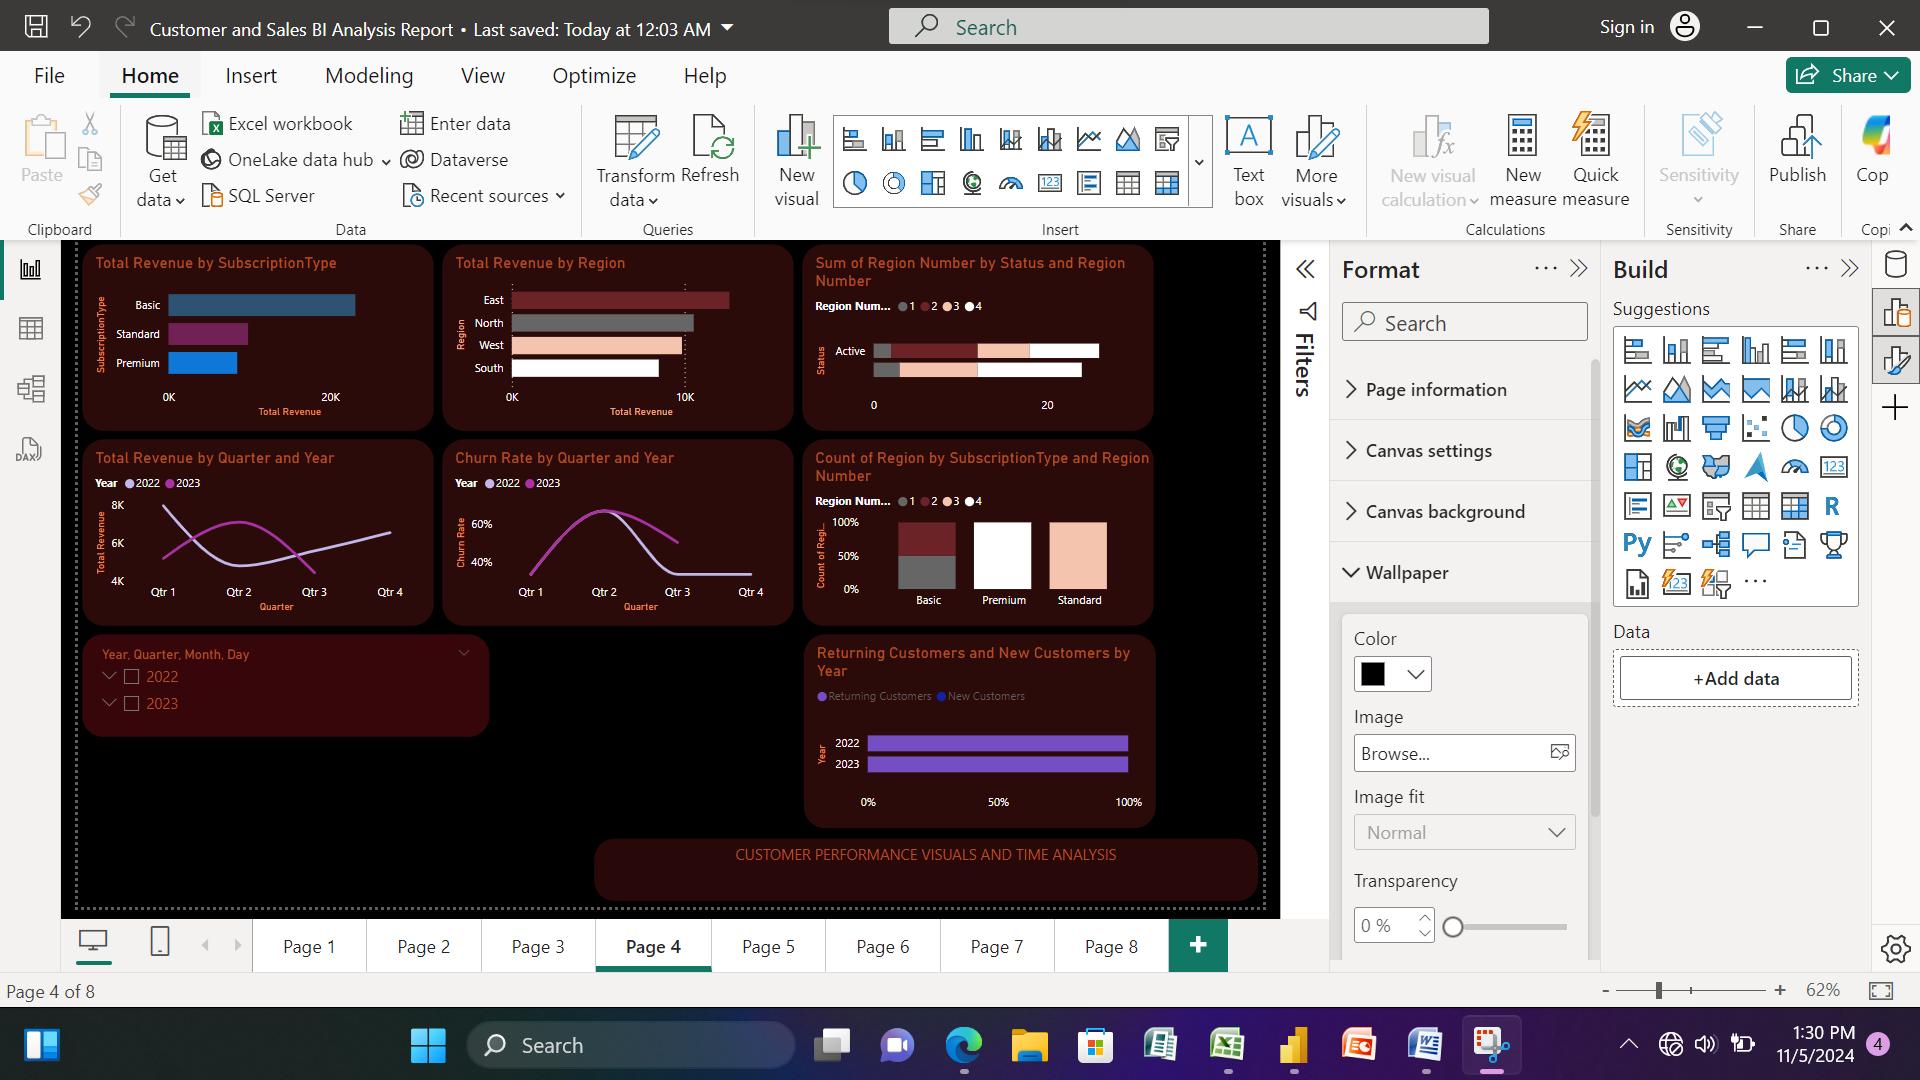

The dashboard page shown, as its layout file describes it:
{"tool":"powerbi","page":{"name":"Page 4","canvas":[1280,720],"ordinal":3},"visuals":[{"type":"barChart","fields":{"Y":["CustomerData.Total Revenue"],"Category":["CustomerData.SubscriptionType"]},"box":[0,0,388.9,210.6],"z":0},{"type":"barChart","fields":{"Category":["CustomerData.Region"],"Y":["CustomerData.Total Revenue"]},"box":[388.9,0,388.9,210.6],"z":1000},{"type":"barChart","fields":{"Series":["CustomerData.Region Number"],"Category":["CustomerData.Status"],"Y":["Sum(CustomerData.Region Number)"]},"box":[777.7,0,388.9,210.6],"z":2000},{"type":"lineChart","fields":{"Y":["CustomerData.Total Revenue"],"Category":["CustomerData.Subsciption start date.Variation.Date Hierarchy.Quarter"],"Series":["CustomerData.Subsciption start date.Variation.Date Hierarchy.Year"]},"box":[0,210.6,388.9,210.6],"z":3000},{"type":"lineChart","fields":{"Category":["CustomerData.Subsciption start date.Variation.Date Hierarchy.Quarter"],"Series":["CustomerData.Subsciption start date.Variation.Date Hierarchy.Year"],"Y":["CustomerData.Churn Rate"]},"box":[388.9,210.6,388.9,210.6],"z":4000},{"type":"hundredPercentStackedColumnChart","fields":{"Category":["CustomerData.SubscriptionType"],"Y":["CountNonNull(CustomerData.Region)"],"Series":["CustomerData.Region Number"]},"box":[777.7,210.6,388.9,210.6],"z":5000},{"type":"textbox","box":[550.5,639.6,730.3,81],"z":6000},{"type":"slicer","fields":{"Values":["CustomerData.Subsciption start date.Variation.Date Hierarchy.Year","CustomerData.Subsciption start date.Variation.Date Hierarchy.Quarter","CustomerData.Subsciption start date.Variation.Date Hierarchy.Month","CustomerData.Subsciption start date.Variation.Date Hierarchy.Day"]},"box":[0,421,448.5,119.8],"z":7000},{"type":"hundredPercentStackedBarChart","fields":{"Y":["CustomerData.Returning Customers","CustomerData.New Customers"],"Category":["CustomerData.SubscriptionStart.Variation.Date Hierarchy.Year"]},"box":[778.3,420.9,389.2,218.4],"z":8000}]}

Visuals, with their boxes on the page's 1280x720 design canvas (x1, y1, x2, y2). These are canvas units, not pixel positions in the 1920x1080 screenshot, which may show the page scaled, cropped or inside an application window:
barChart - CustomerData.Total Revenue x CustomerData.SubscriptionType: bbox=[0, 0, 389, 211]
barChart - CustomerData.Region x CustomerData.Total Revenue: bbox=[389, 0, 778, 211]
barChart - CustomerData.Region Number x CustomerData.Status: bbox=[778, 0, 1167, 211]
lineChart - CustomerData.Total Revenue x CustomerData.Subsciption start date.Variation.Date Hierarchy.Quarter: bbox=[0, 211, 389, 421]
lineChart - CustomerData.Subsciption start date.Variation.Date Hierarchy.Quarter x CustomerData.Subsciption start date.Variation.Date Hierarchy.Year: bbox=[389, 211, 778, 421]
hundredPercentStackedColumnChart - CustomerData.SubscriptionType x CountNonNull(CustomerData.Region): bbox=[778, 211, 1167, 421]
textbox: bbox=[550, 640, 1281, 721]
slicer - CustomerData.Subsciption start date.Variation.Date Hierarchy.Year x CustomerData.Subsciption start date.Variation.Date Hierarchy.Quarter: bbox=[0, 421, 448, 541]
hundredPercentStackedBarChart - CustomerData.Returning Customers x CustomerData.New Customers: bbox=[778, 421, 1168, 639]
